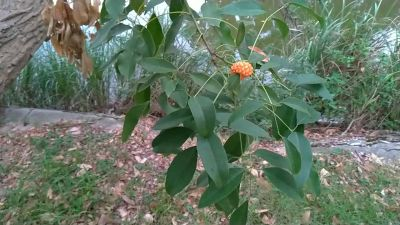eggs: (230, 59, 256, 81)
